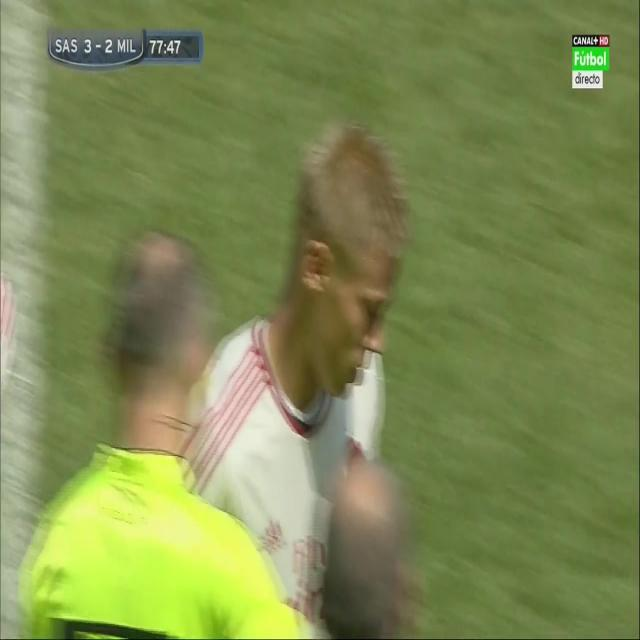Player: (186, 118, 407, 620)
Referee: (15, 211, 317, 640)
